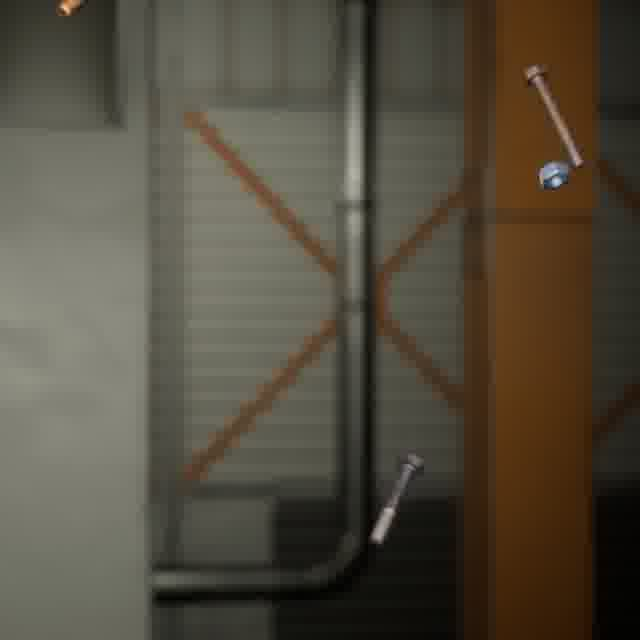bolt: (518, 61, 589, 173), (364, 448, 428, 550), (51, 0, 94, 24)
nut: (534, 157, 574, 193)
